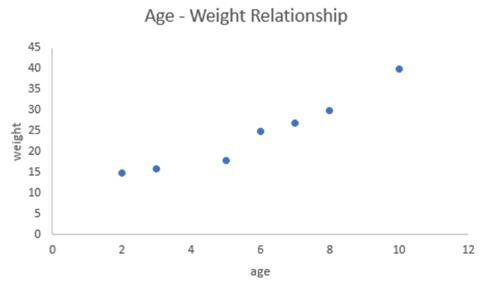axis: (46, 230, 471, 239), (46, 46, 57, 239)
point: (220, 154, 232, 167), (256, 126, 266, 138), (289, 118, 301, 128), (323, 106, 335, 116), (151, 164, 162, 174), (394, 64, 405, 74), (117, 168, 127, 178)
